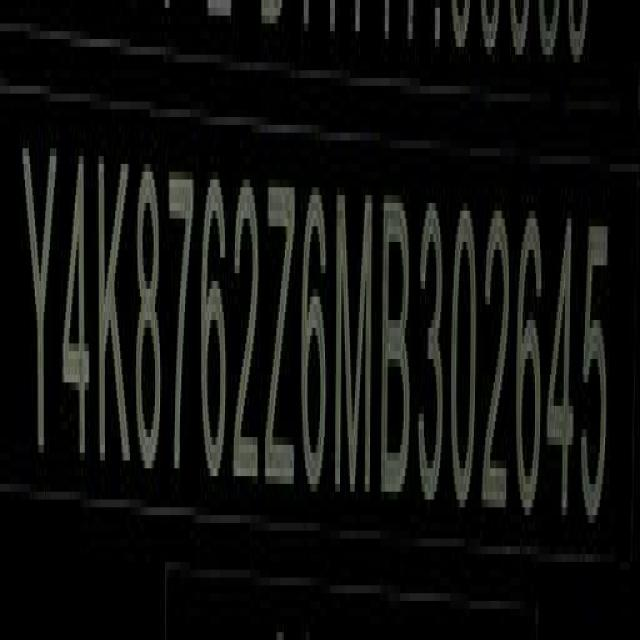0: (453, 200, 479, 518)
2: (232, 167, 260, 497), (483, 201, 512, 519)
3: (418, 197, 446, 511)
4: (59, 136, 92, 474), (550, 215, 577, 534)
5: (584, 221, 613, 536)
6: (202, 160, 230, 490), (302, 180, 330, 494), (518, 207, 545, 527)
7: (168, 155, 195, 479)
8: (136, 155, 163, 476)
B: (380, 187, 413, 503)
K: (97, 149, 133, 482)
M: (334, 175, 376, 502)
Y: (20, 130, 58, 474)
Z: (267, 173, 297, 501)
